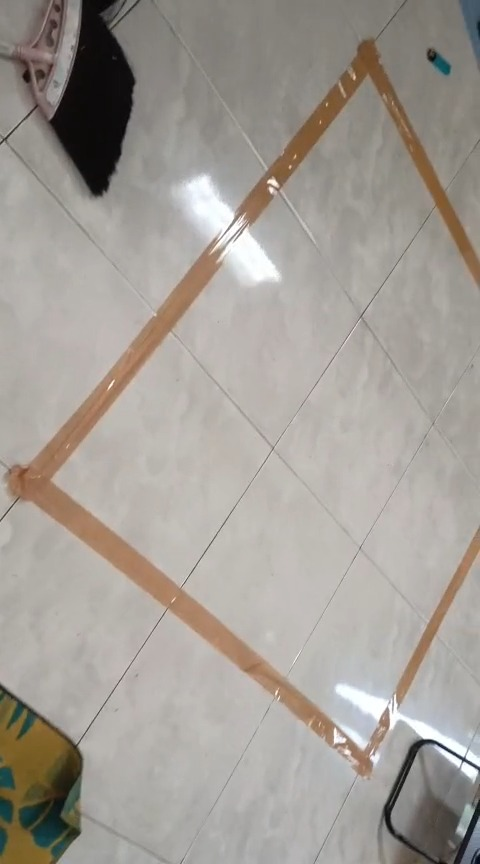floor marking: (9, 40, 479, 775)
